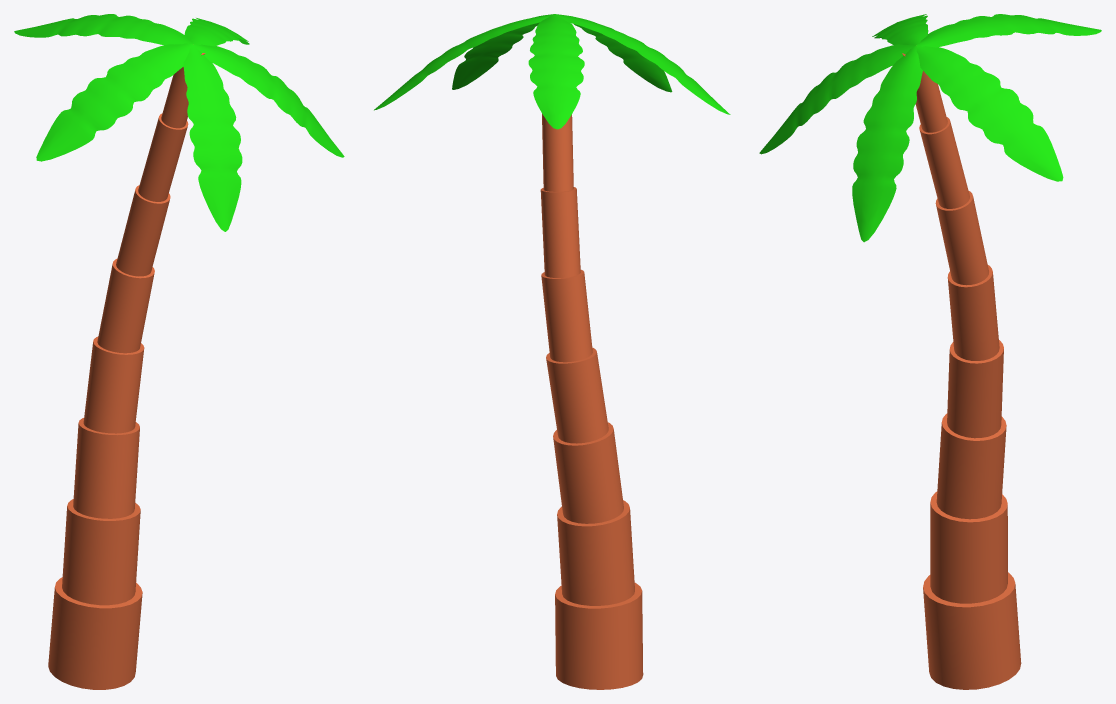
File: Palm.fbx
3 renders of one model, left to right at view 1: azimuth 30°, elevation 25°; view 2: azimuth 150°, elevation 25°; view 3: azimuth 270°, elevation 25°, orthographic. The views are drawn at different scales.
Visible parts, largest first — view 1: Cylinder; view 2: Cylinder; view 3: Cylinder.
Boxes of the visible parts, x1,y1,x2,y2 form: Cylinder: [14, 14, 344, 689]; Cylinder: [374, 14, 730, 689]; Cylinder: [759, 14, 1101, 689].
Bounding box in the file's own units: 770 × 1598 × 741.
